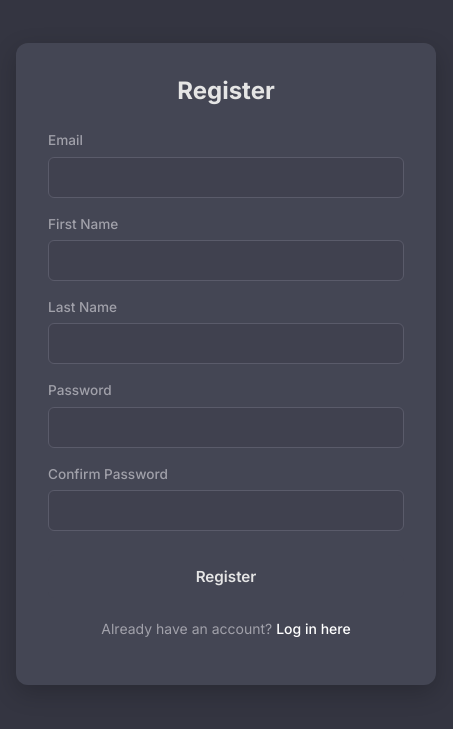
it: Register page › shows password mismatch indicator
This screenshot has width=453, height=729.
Type "Password1" into the password field labelled "Password" at [226, 427], box [48,407,404,448]
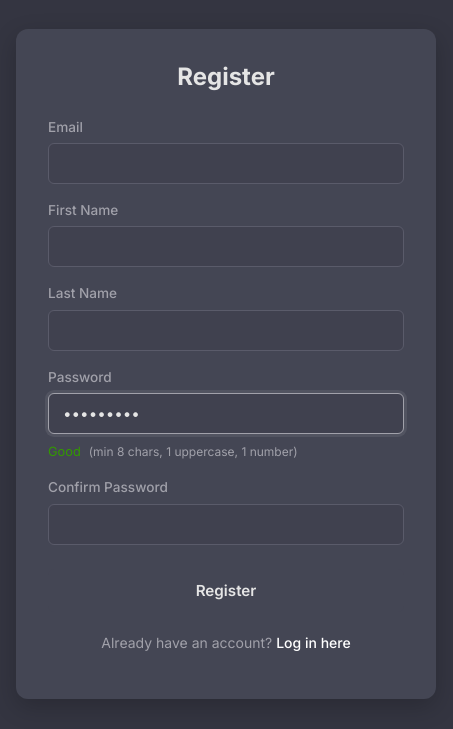
Type "Different1" into the password field labelled "Confirm Password" at [226, 524], box [48,504,404,545]
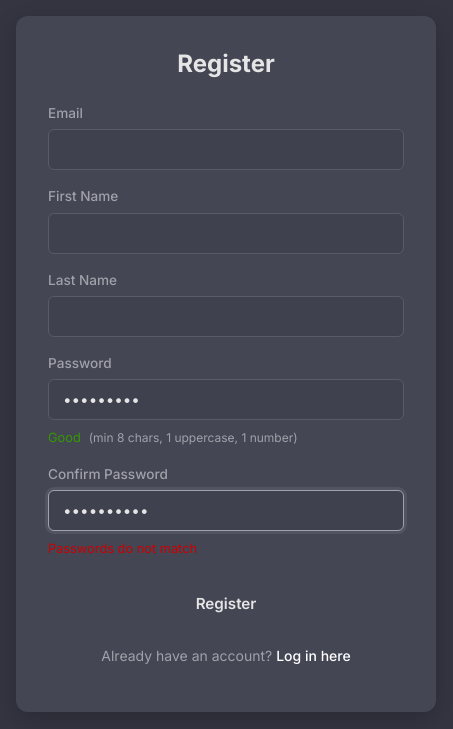
Expected: the text "Passwords do not match" is shown, [48,541,197,556]
